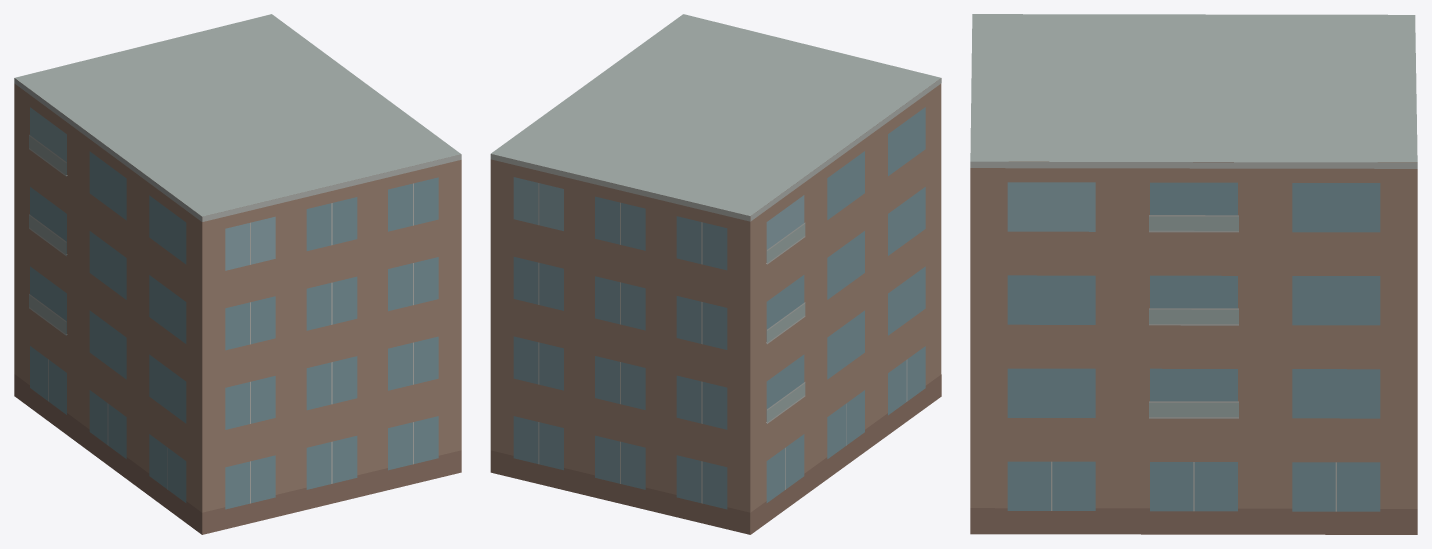
Rendered from survey-upis-32823256.glb.
3 renders of one model, left to right at view 1: azimuth 30°, elevation 25°; view 2: azimuth 150°, elevation 25°; view 3: azimuth 270°, elevation 25°, orthographic. The views are drawn at different scales.
Visible parts, largest first — view 1: survey-upis-32823256.tmp; view 2: survey-upis-32823256.tmp; view 3: survey-upis-32823256.tmp.
Part boxes in pixels (box(x1,y1,x2,y2)): survey-upis-32823256.tmp: box(14, 14, 461, 534); survey-upis-32823256.tmp: box(490, 14, 941, 534); survey-upis-32823256.tmp: box(970, 14, 1417, 534).
Size of the model in its own units: 12.07 by 14.1 by 15.36.
